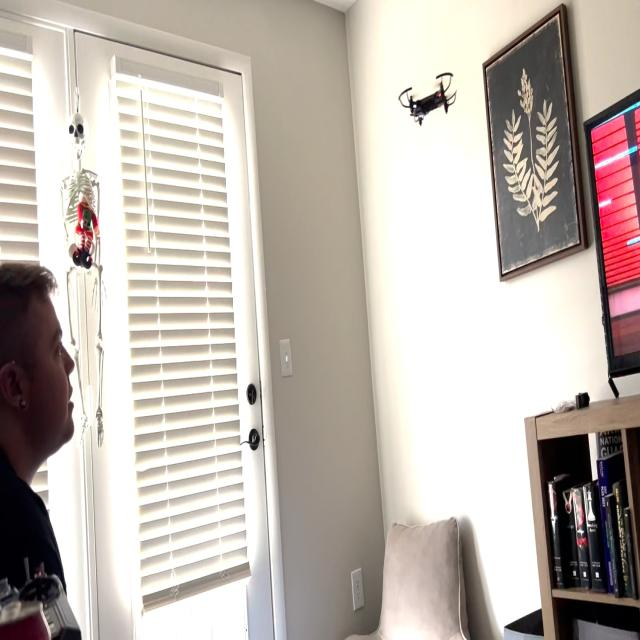drone: (394, 58, 466, 135)
